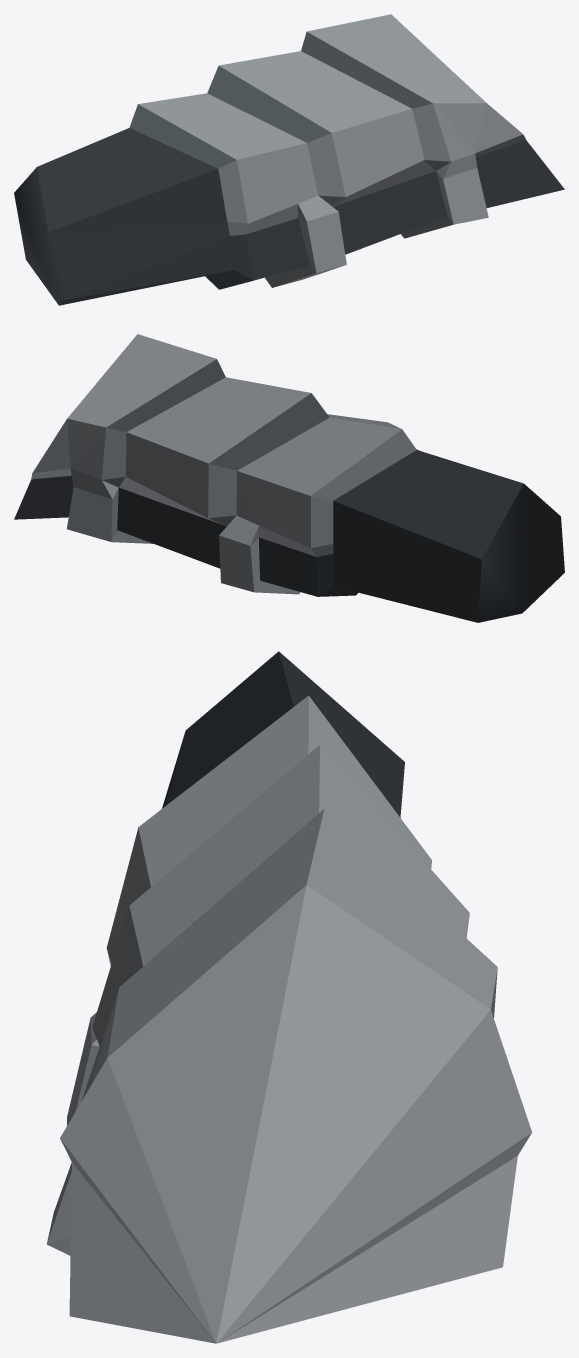
The model's file is Chr_ArmUpperRight_Female_01_Static.fbx.
The picture shows the model from 3 angles, top to bottom: view 1: azimuth 30°, elevation 25°; view 2: azimuth 150°, elevation 25°; view 3: azimuth 270°, elevation 25°; orthographic projection. The views are drawn at different scales.
Parts seen in each view (by area): view 1: Chr_ArmUpperRight_Female_01_Static; view 2: Chr_ArmUpperRight_Female_01_Static; view 3: Chr_ArmUpperRight_Female_01_Static.
Part boxes in pixels (x1,y1,x2,y2): Chr_ArmUpperRight_Female_01_Static: (14, 14, 564, 305); Chr_ArmUpperRight_Female_01_Static: (14, 334, 564, 622); Chr_ArmUpperRight_Female_01_Static: (46, 651, 532, 1343).
Size of the model in its own units: 0.3535 by 0.1577 by 0.1524.
